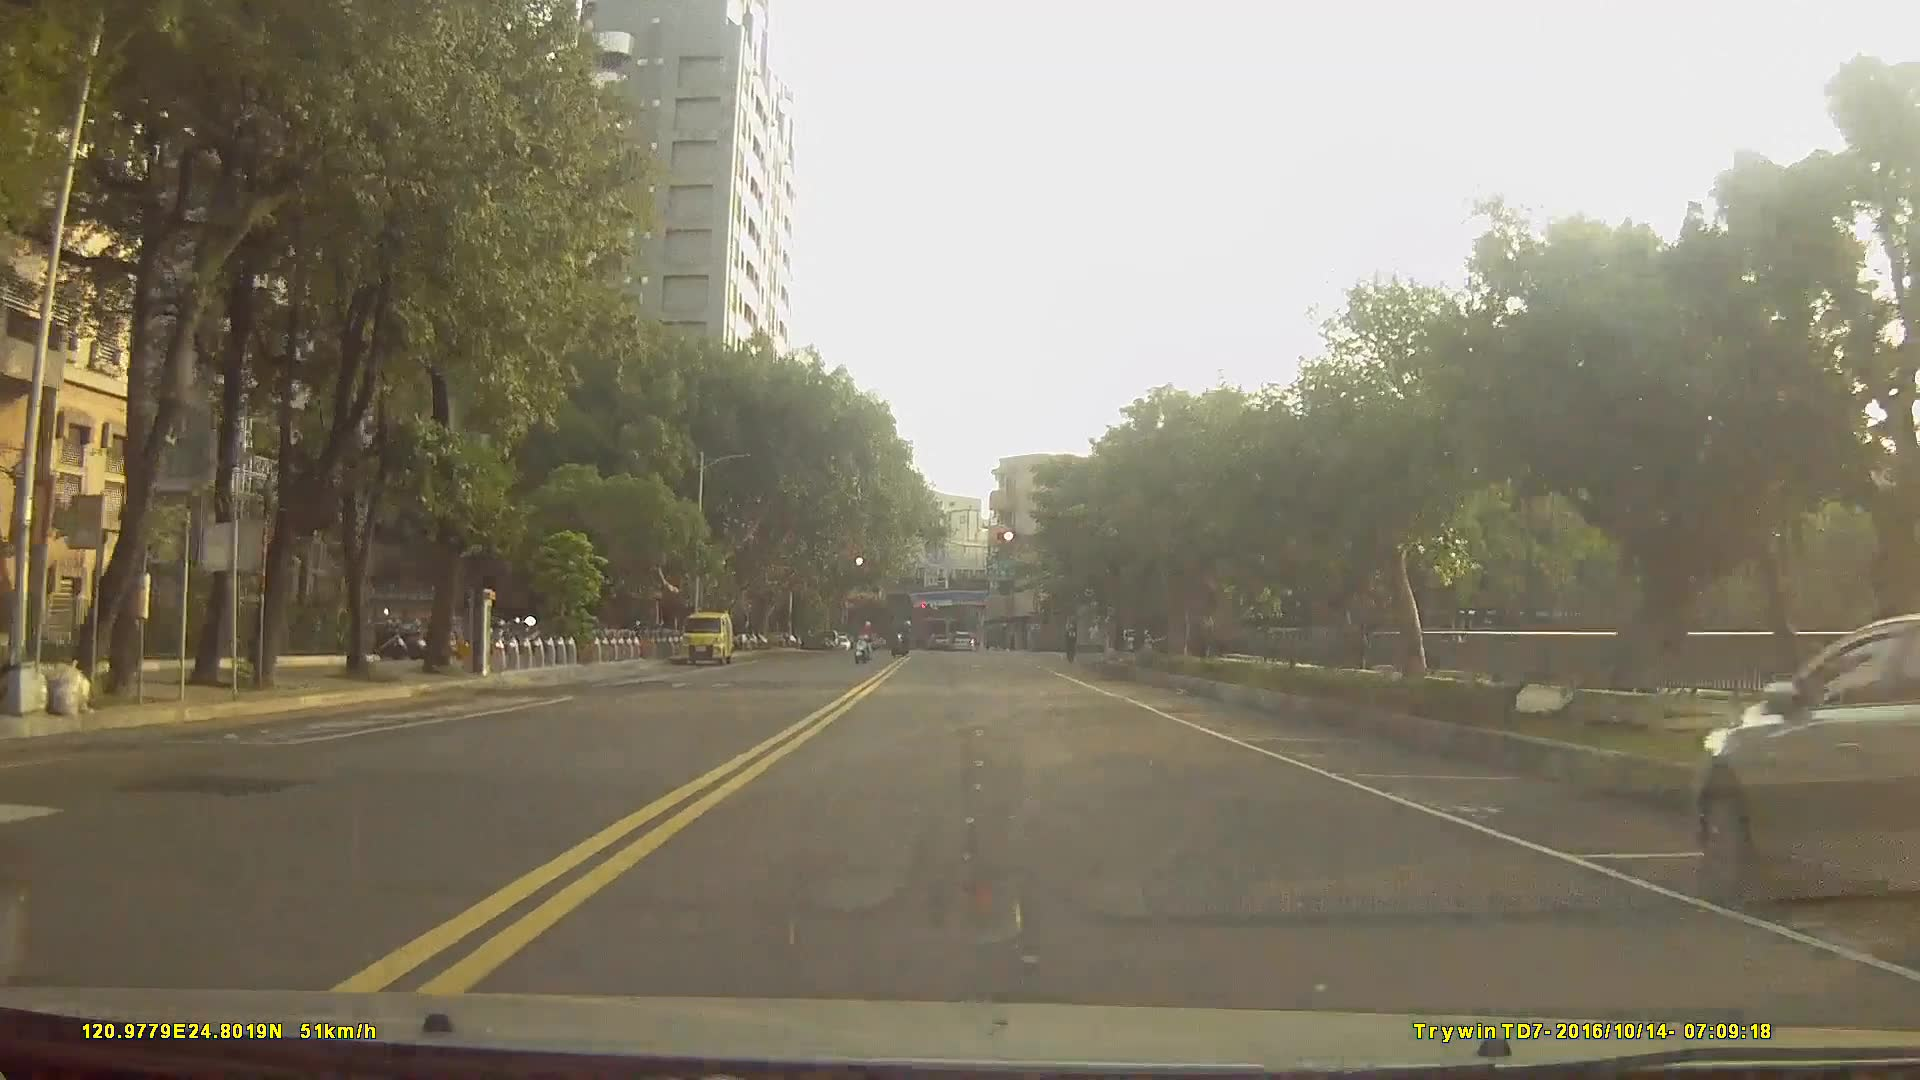pedestrian: (1086, 616, 1106, 658)
rider: (851, 617, 880, 666), (890, 617, 914, 660)
vehicle: (1692, 612, 1920, 908), (947, 628, 977, 652)
